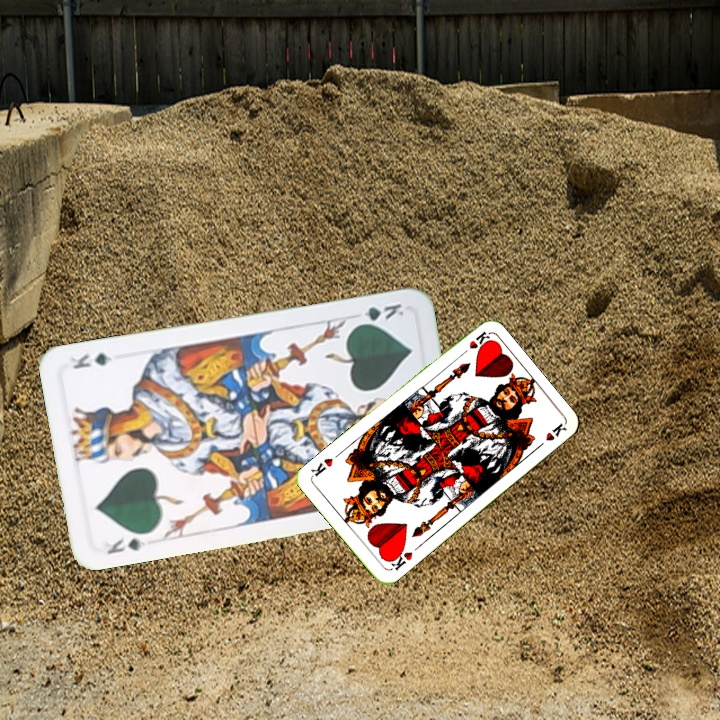GK: (351, 299, 406, 329), (103, 533, 148, 557)
HK: (455, 328, 492, 360), (384, 545, 415, 573)
